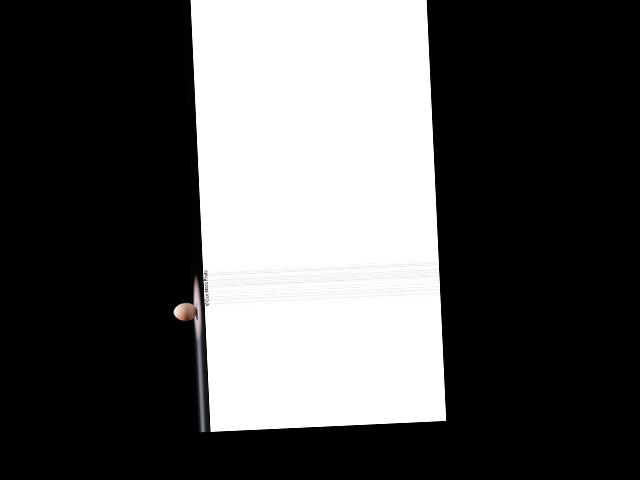egg: (173, 302, 197, 321)
